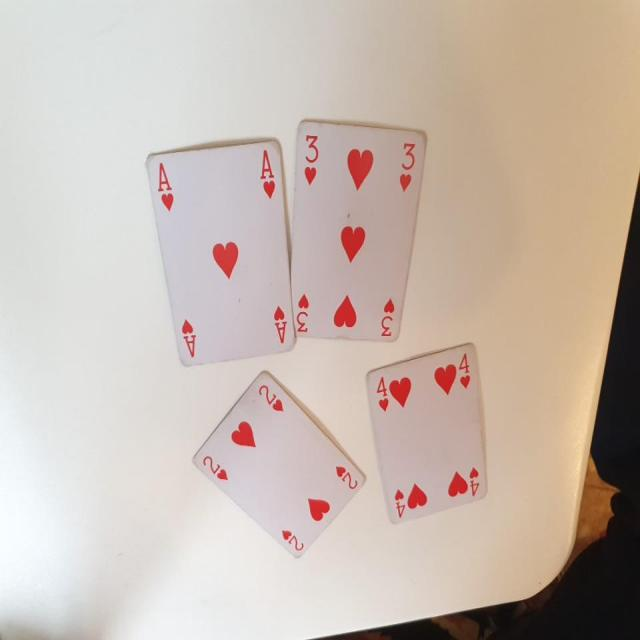2 Hearts: (182, 366, 371, 569)
3 Hearts: (286, 114, 431, 354)
4 Hearts: (358, 342, 494, 534)
A Hearts: (142, 134, 298, 369)
